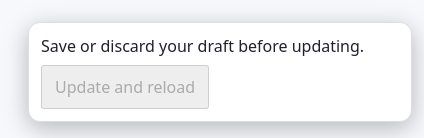
Scenario: requires an explicit unguarded click and sends just one activation request
Later steps or results of the test are not shown.
Click the button "Update and reload" at (125, 87), box 41,65 -> 209,109
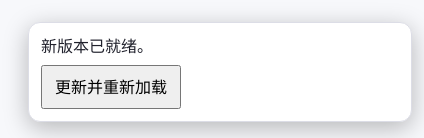
Now the button "更新并重新加载" is shown, box 41,65 -> 181,109
